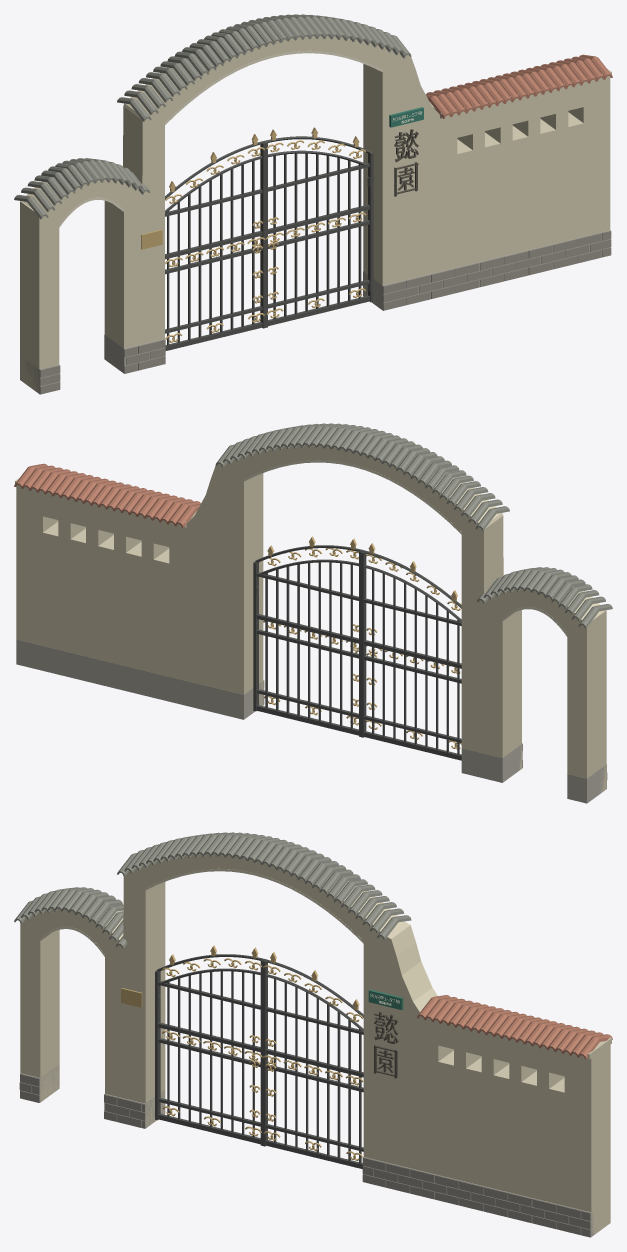
The model's file is xuhui-yiyuan-jianguo-road-gate-lod.glb.
3 renders of one model, top to bottom at view 1: azimuth 30°, elevation 25°; view 2: azimuth 150°, elevation 25°; view 3: azimuth 330°, elevation 25°, orthographic.
Visible parts, largest first — view 1: 懿园建国西路南门; view 2: 懿园建国西路南门; view 3: 懿园建国西路南门.
Part boxes in pixels (<box>): 懿园建国西路南门: <box>14,14,612,394</box>; 懿园建国西路南门: <box>14,423,612,803</box>; 懿园建国西路南门: <box>14,832,612,1237</box>.
Size of the model in its own units: 8.69 by 4.46 by 0.7.
